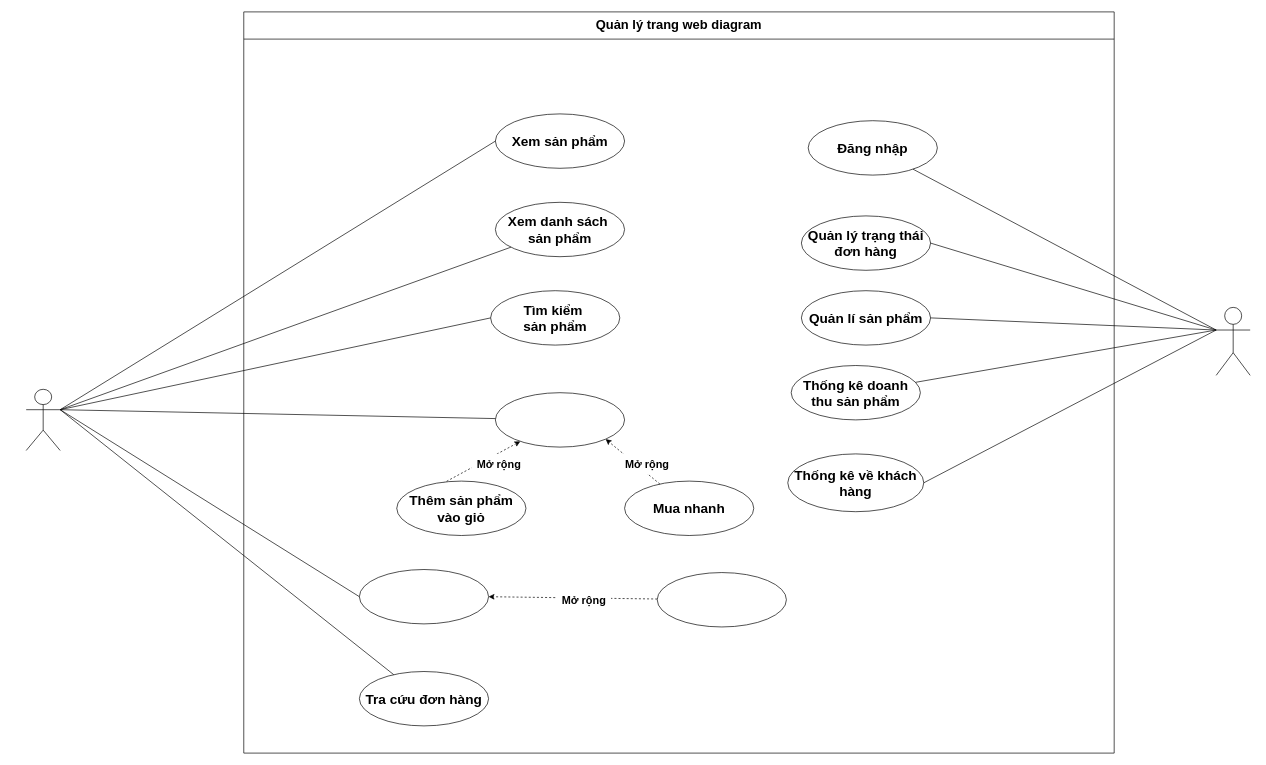
This 1266x765 diagram has some shape labels left out. The shapes that lost their labels are listed below. From the top down, each one's centre as x and y in pixels, then its label:
At point 1233,341: "Admin".
At point 43,420: "Customer".
At point 560,419: "Chọn chi tiết sản phẩm".
At point 424,596: "Xem giỏ hàng".
At point 721,599: "Thanh toán".
